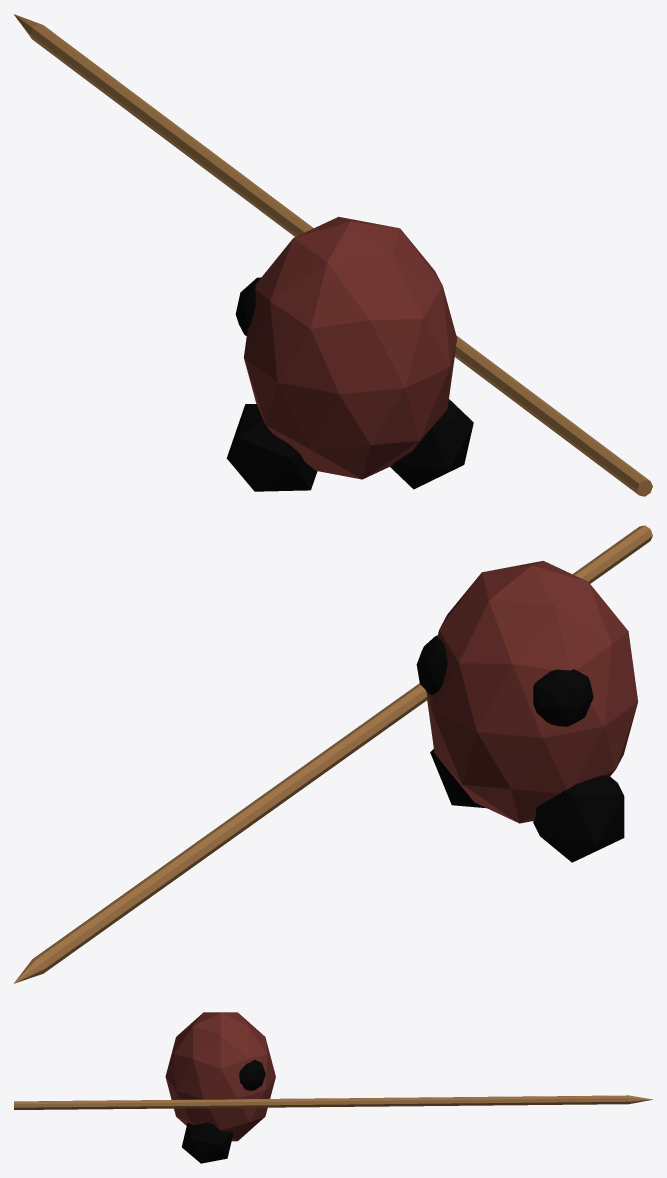
Rendered from walk.f0008.glb.
3 renders of one model, top to bottom at view 1: azimuth 30°, elevation 25°; view 2: azimuth 150°, elevation 25°; view 3: azimuth 270°, elevation 25°, orthographic. The views are drawn at different scales.
Visible parts, largest first — view 1: Body.001; view 2: Body.001; view 3: Body.001.
Part boxes in pixels (x1,y1,x2,y2): Body.001: [14, 14, 652, 496]; Body.001: [14, 525, 652, 983]; Body.001: [14, 1012, 652, 1163].
Size of the model in its own units: 2.17 by 2.72 by 11.56.
Materials: 1 (1 with a texture image).
